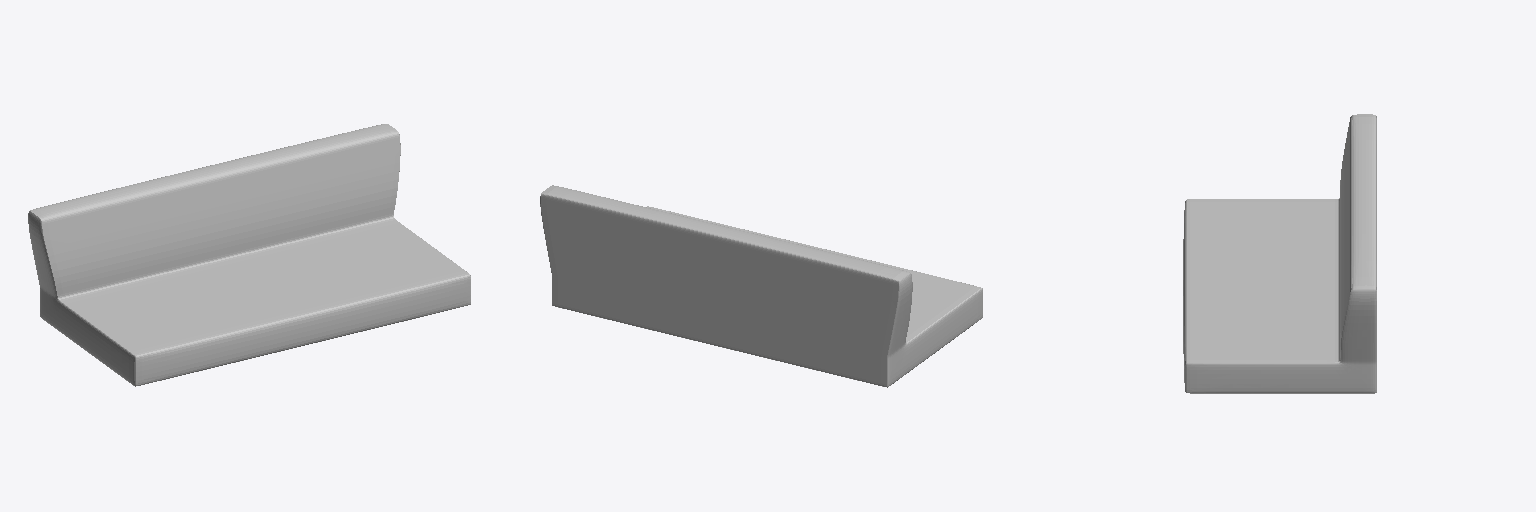
The model's file is frame.obj.
3 views of the same model, side by side, from view 1: azimuth 30°, elevation 25°; view 2: azimuth 150°, elevation 25°; view 3: azimuth 270°, elevation 25° (orthographic).
Bounding box in the file's own units: 59.8 × 17.75 × 27.8.